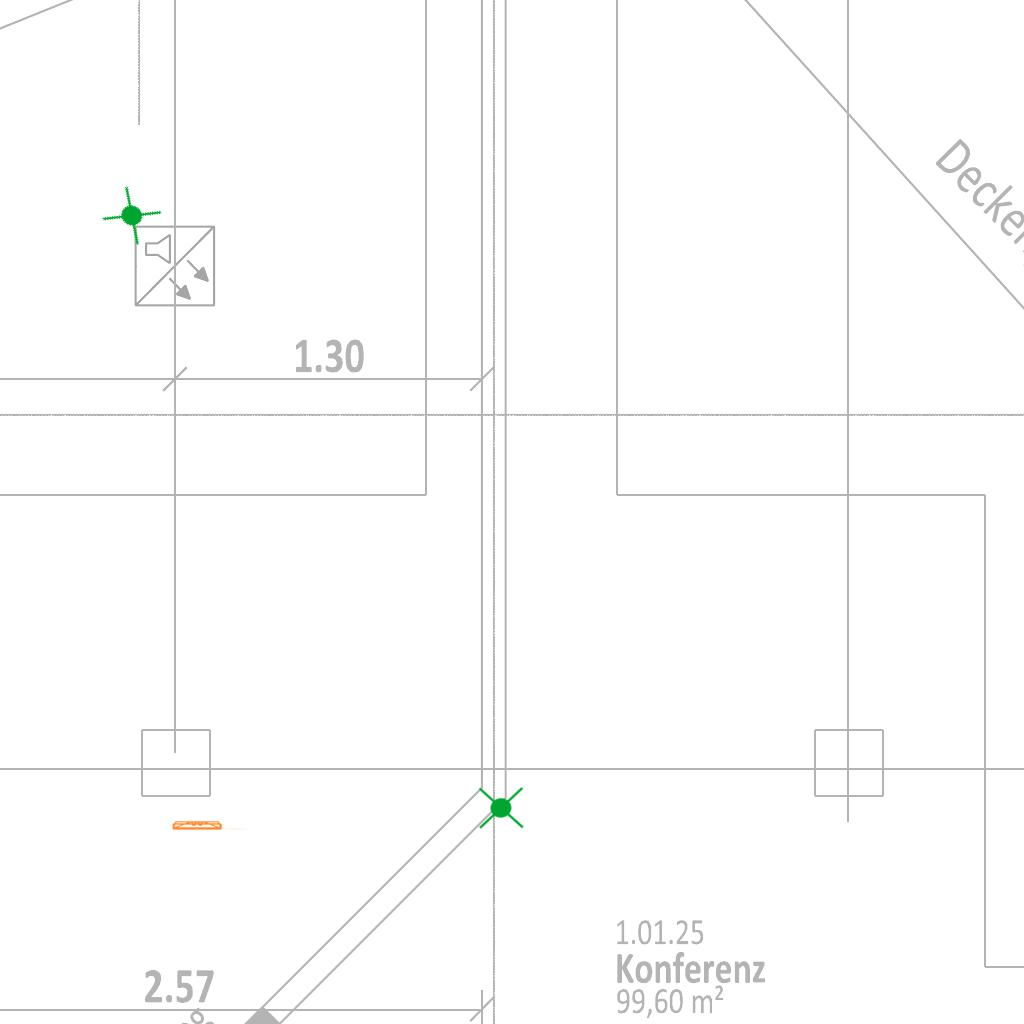Notlichtbaustein_in_Allgemeinbeleuchtug_engebaut_Einbau_(1UG_und_2UG_Aufbauvaria: (96, 180, 167, 252), (476, 783, 526, 834)
Sicherheitsleuchte_Wandeinbau: (170, 819, 249, 831)
